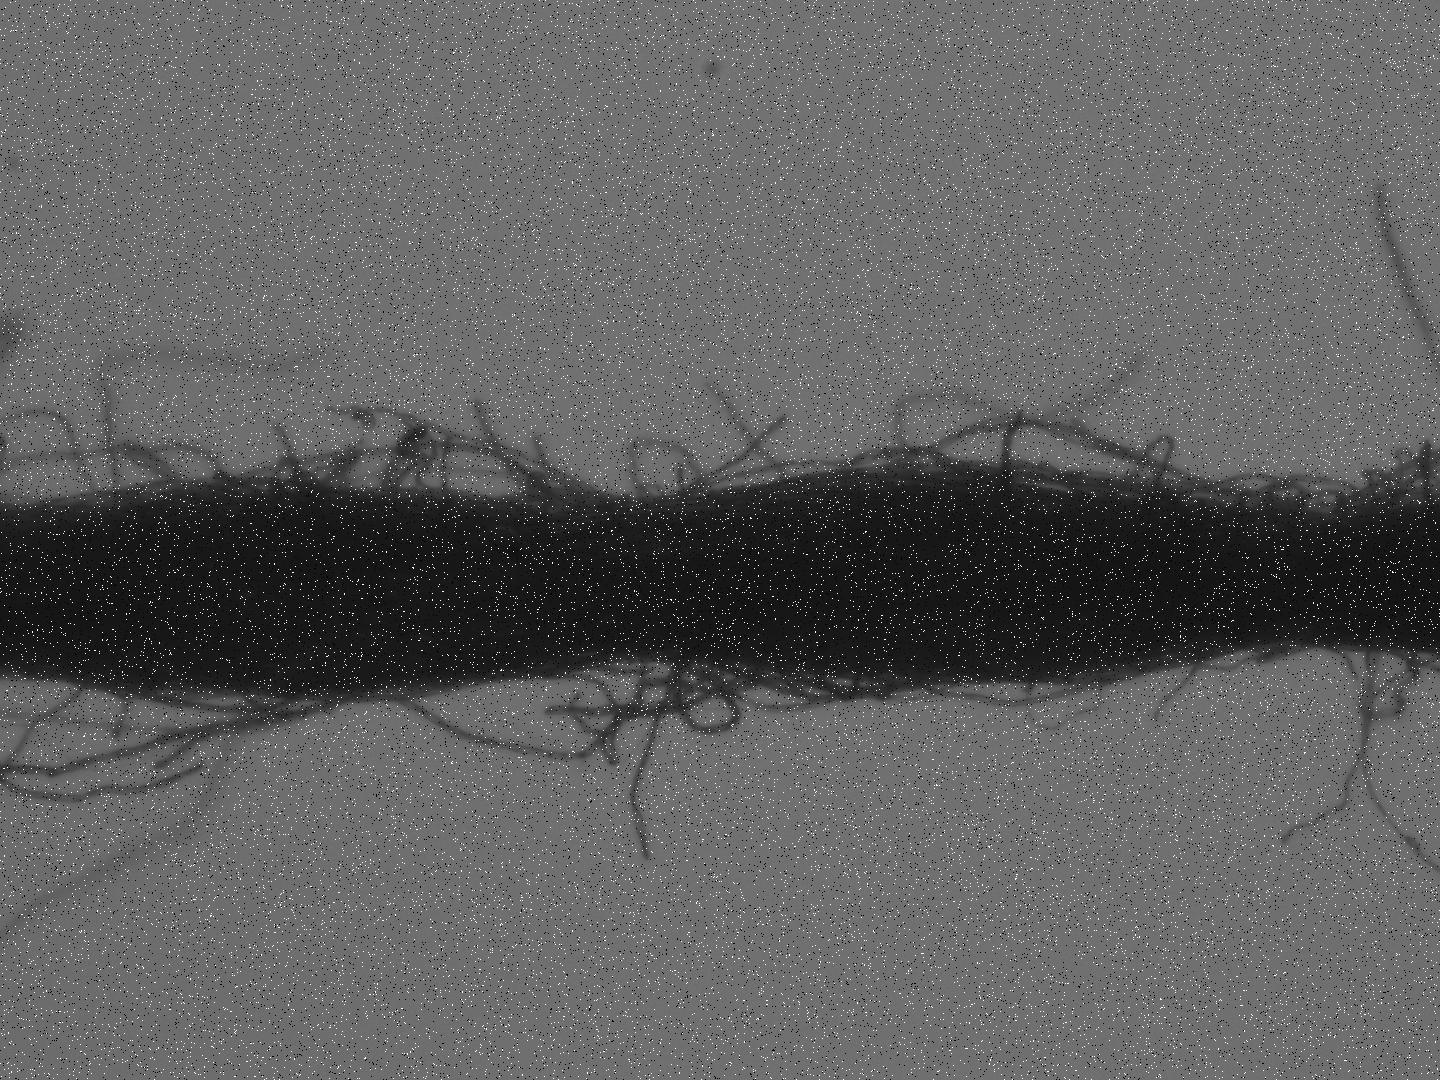loop_fiber: (379, 655, 632, 767), (380, 415, 571, 512), (209, 438, 364, 495), (624, 434, 728, 514), (668, 643, 744, 742), (111, 682, 304, 717), (1019, 666, 1109, 739), (830, 441, 992, 481), (1356, 445, 1437, 521), (1353, 642, 1426, 722), (1121, 431, 1184, 504), (1289, 479, 1354, 526)
protruding_fiber: (626, 648, 678, 863), (1001, 403, 1027, 490)
